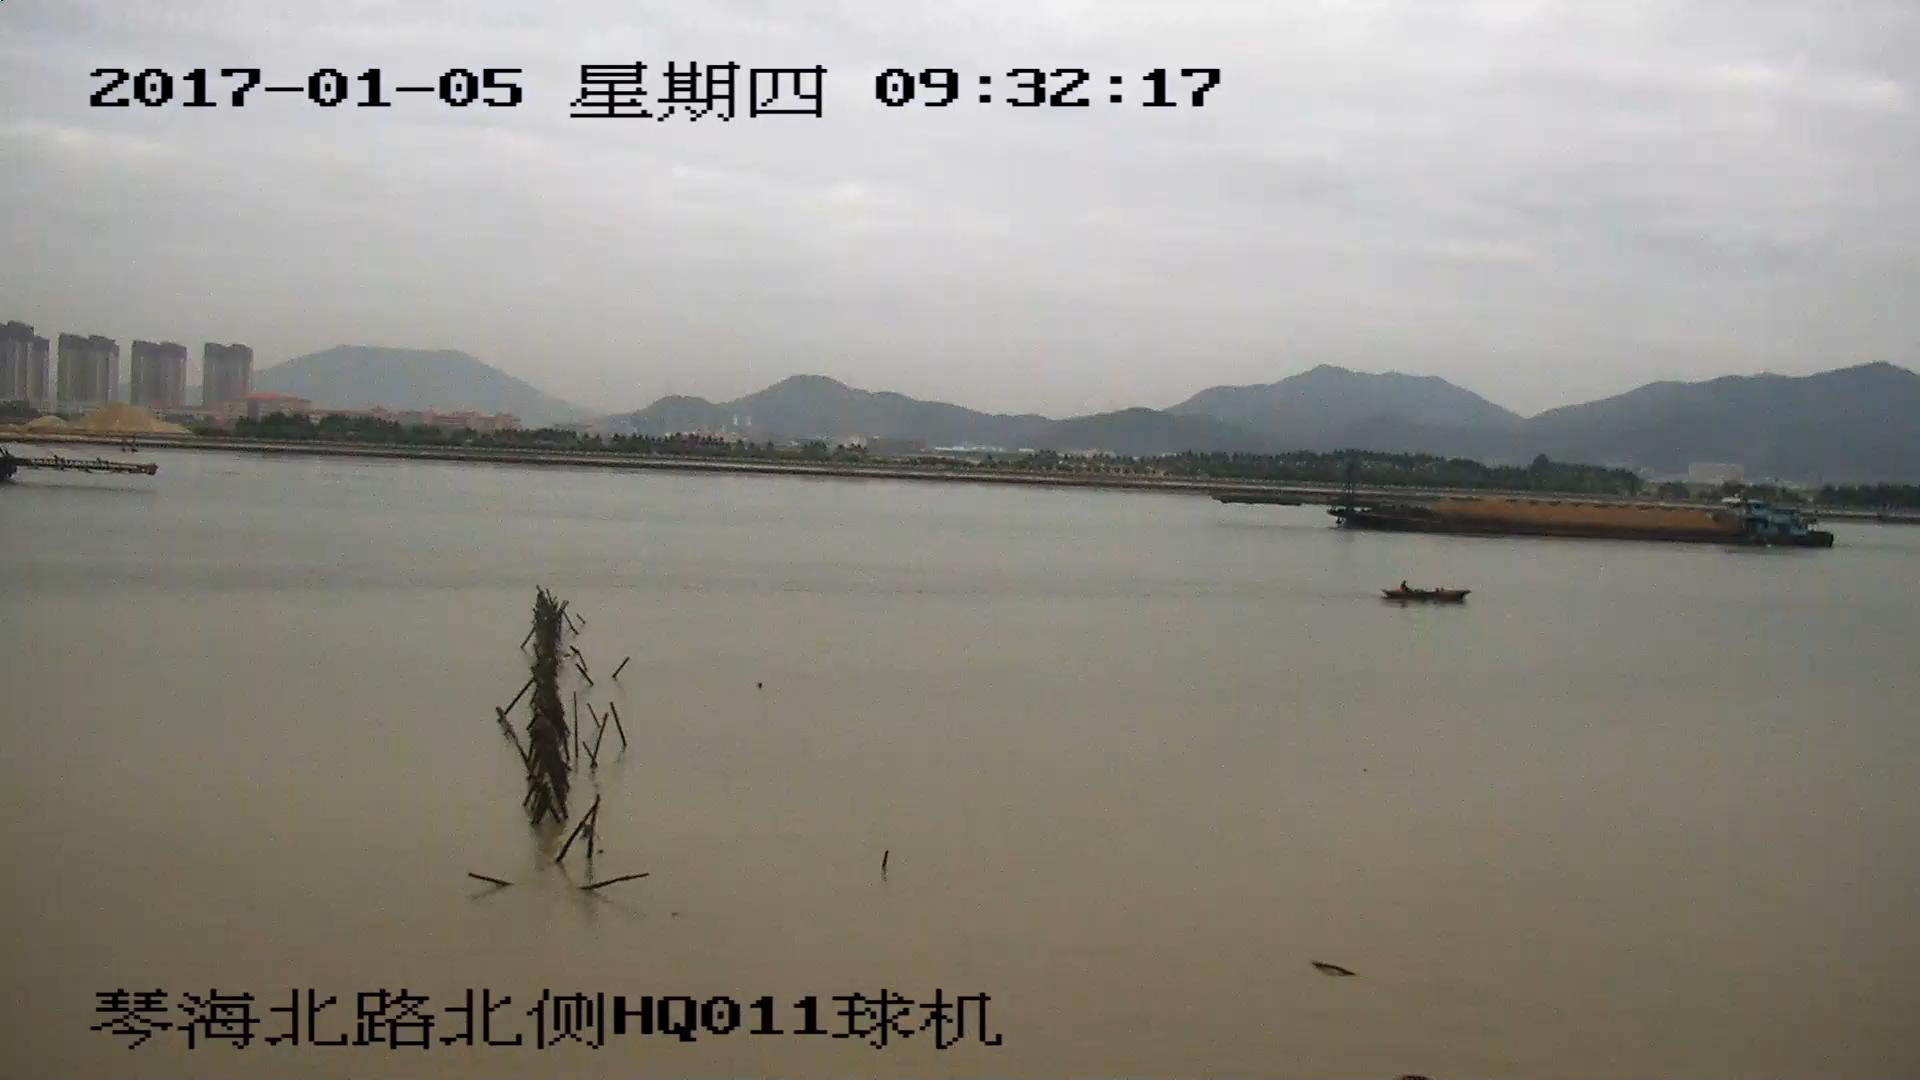fishing boat: (1388, 580, 1470, 604)
ore carrier: (1224, 470, 1832, 548)
